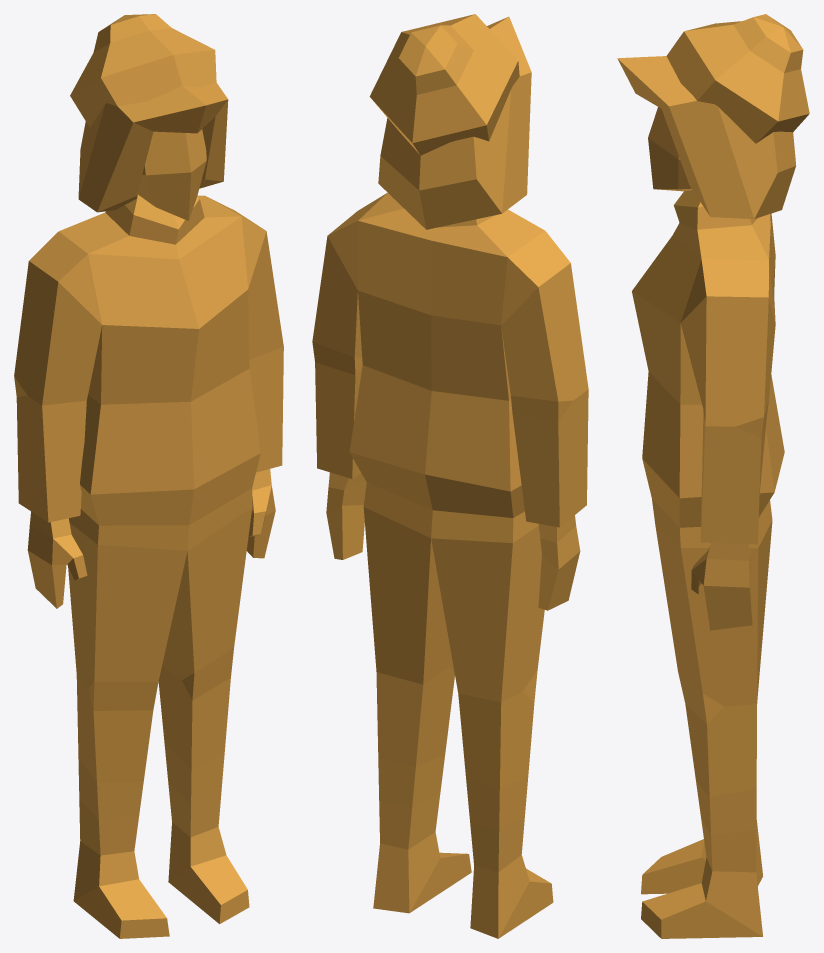
The model's file is woman-winter.fbx.
The picture shows the model from 3 angles, left to right: view 1: azimuth 30°, elevation 25°; view 2: azimuth 150°, elevation 25°; view 3: azimuth 270°, elevation 25°; orthographic projection. The views are drawn at different scales.
Parts seen in each view (by area): view 1: woman-winter; view 2: woman-winter; view 3: woman-winter.
Part boxes in pixels (left/top/right/bottom): woman-winter: left=14, top=14, right=283, bottom=938; woman-winter: left=312, top=14, right=588, bottom=938; woman-winter: left=617, top=14, right=809, bottom=938.
Bounding box in the file's own units: 0.5584 × 1.93 × 0.3784.
